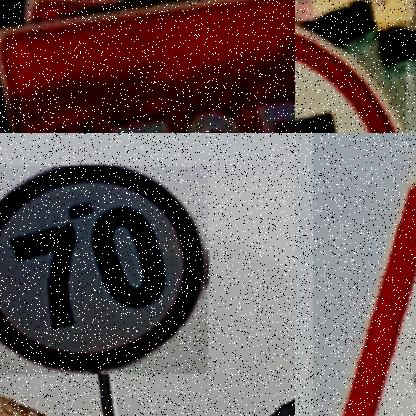Cross Roads: (337, 150, 416, 416)
Speed Limit (70 kmph): (0, 167, 207, 374)
Speed Limit -25 kmph-: (295, 34, 397, 133)
